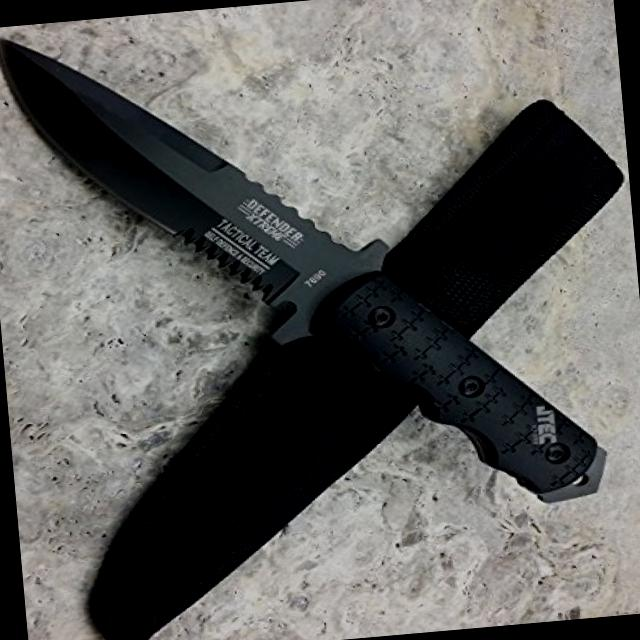knife: (0, 0, 363, 331)
